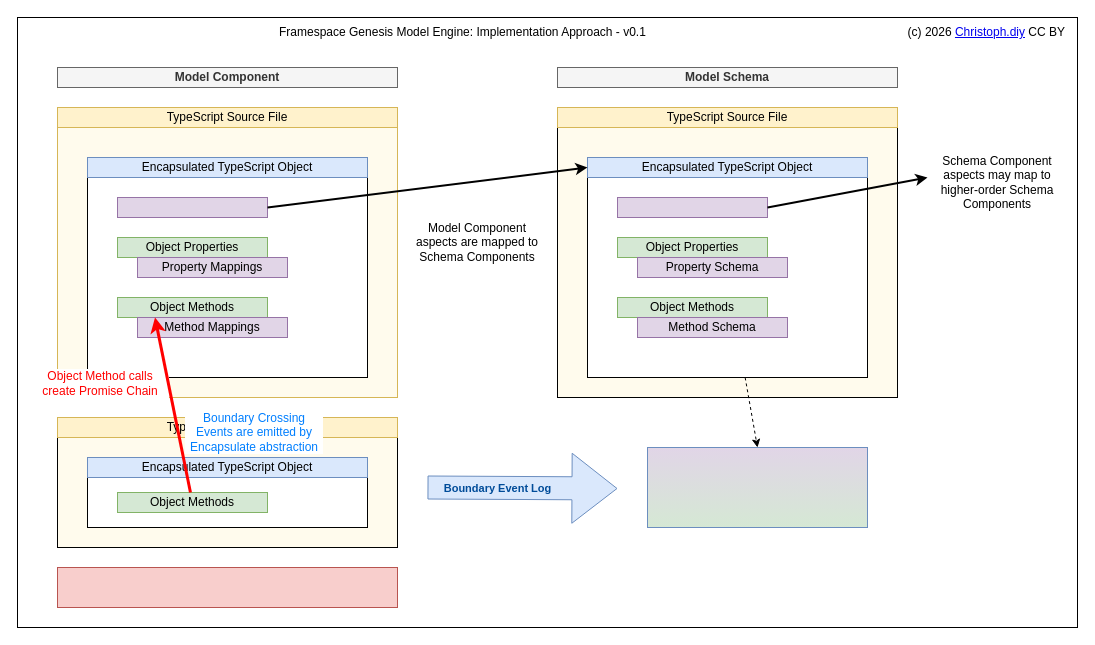
Some shapes in this 1095 by 645 pixel diagram are drawn without their labels. Each missing label, with the centre of its shape:
"Model executes by following codepath" belongs at point 227,587.
"Object Mappings" belongs at point 192,207.
"Schema Definition" belongs at point 692,207.
"Schema-based, Event-hydrated Interactive Visualization" belongs at point 757,487.
